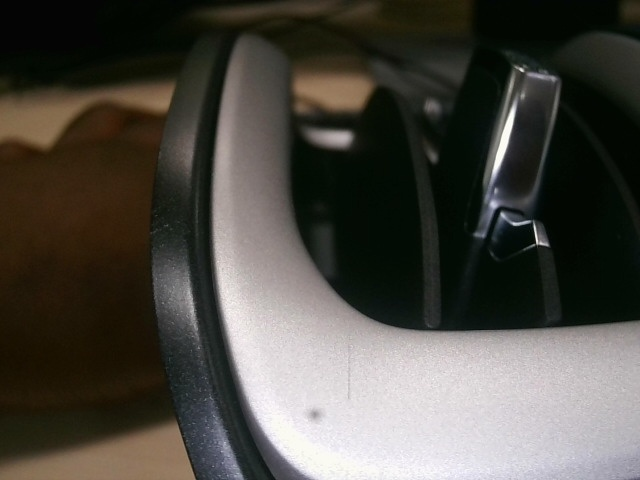NG: (338, 338, 365, 404), (148, 204, 174, 263)
